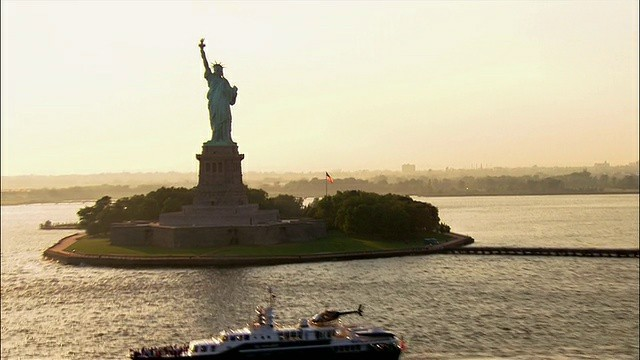SL: (192, 37, 249, 207)
